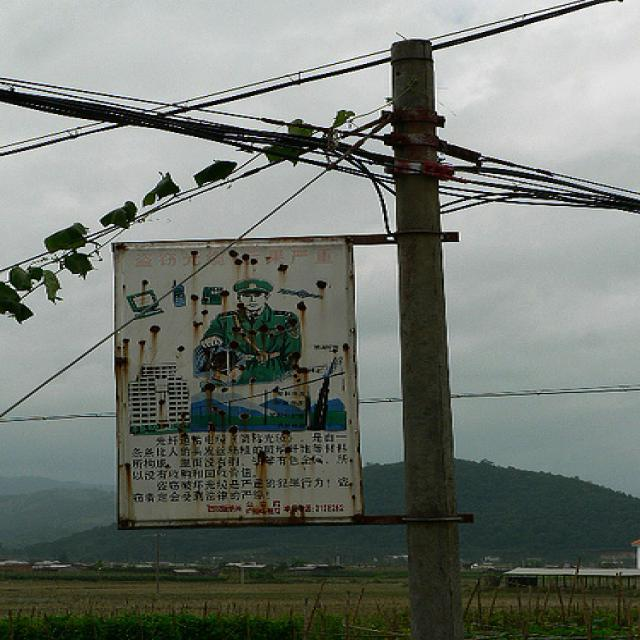pole: (387, 40, 479, 640)
wire: (0, 115, 397, 420), (0, 0, 617, 160), (2, 74, 640, 198), (5, 383, 640, 430)
